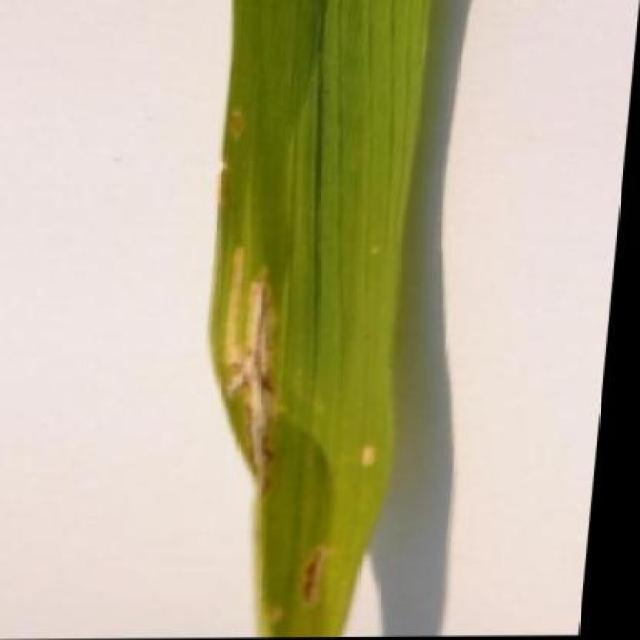Brown_Spot: (180, 0, 443, 638)
